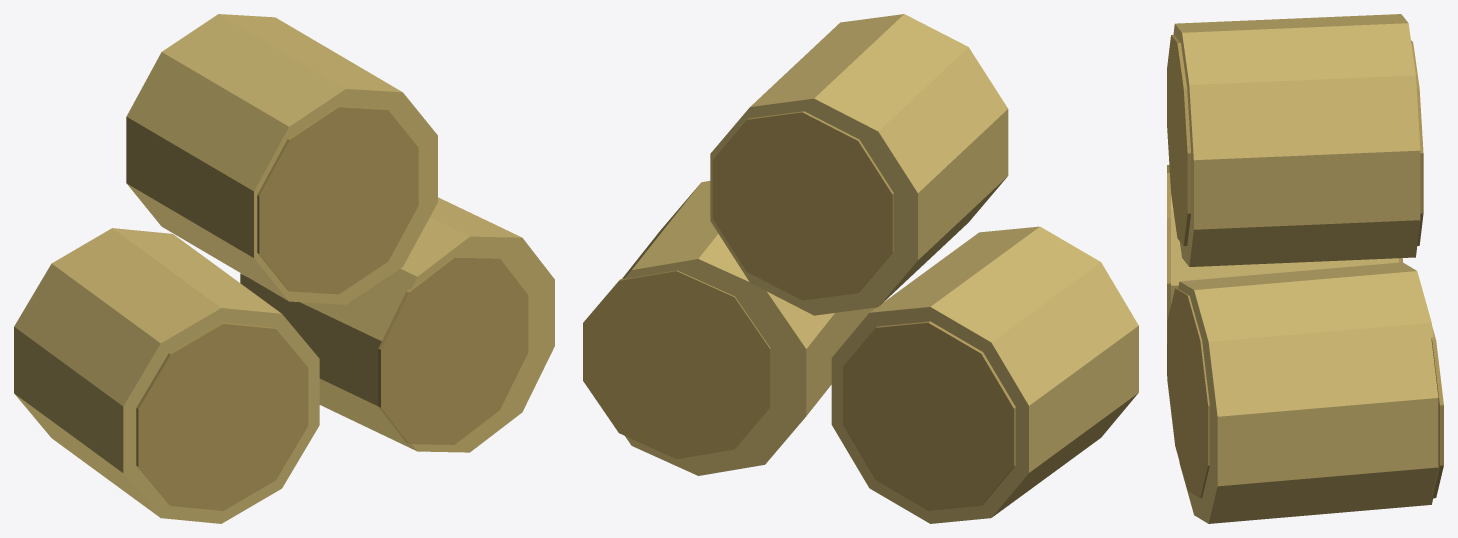
File: hay_bales.glb
The picture shows the model from 3 angles, left to right: view 1: azimuth 30°, elevation 25°; view 2: azimuth 150°, elevation 25°; view 3: azimuth 270°, elevation 25°; orthographic projection. The views are drawn at different scales.
Parts seen in each view (by area): view 1: hay_bales; view 2: hay_bales; view 3: hay_bales.
Part boxes in pixels (bbox=[...]): hay_bales: bbox=[14, 14, 554, 523]; hay_bales: bbox=[583, 14, 1138, 523]; hay_bales: bbox=[1167, 14, 1443, 523].
Bounding box in the file's own units: 2.64 × 2.22 × 1.34.
